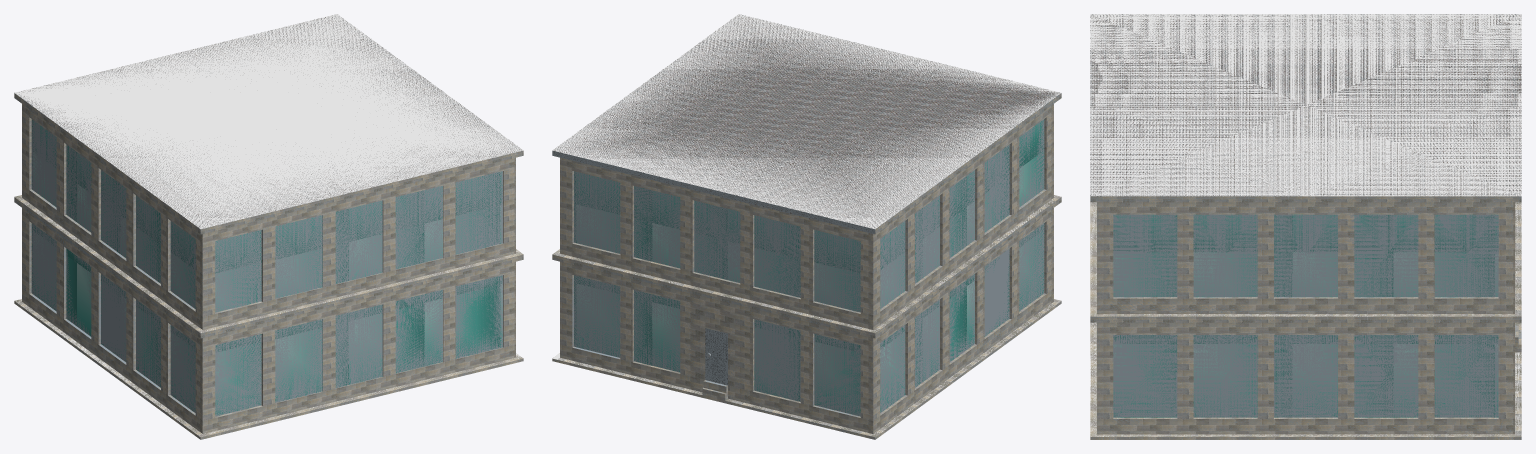
Rendered from building4.fbx.
3 views of the same model, side by side, from view 1: azimuth 30°, elevation 25°; view 2: azimuth 150°, elevation 25°; view 3: azimuth 270°, elevation 25° (orthographic). The views are drawn at different scales.
Visible parts, largest first — view 1: Model; view 2: Model; view 3: Model.
Boxes of the visible parts, <box> form: Model: <box>14,14,523,439</box>; Model: <box>552,14,1061,439</box>; Model: <box>1090,14,1521,439</box>.
Size of the model in its own units: 13 by 8.1 by 13.
